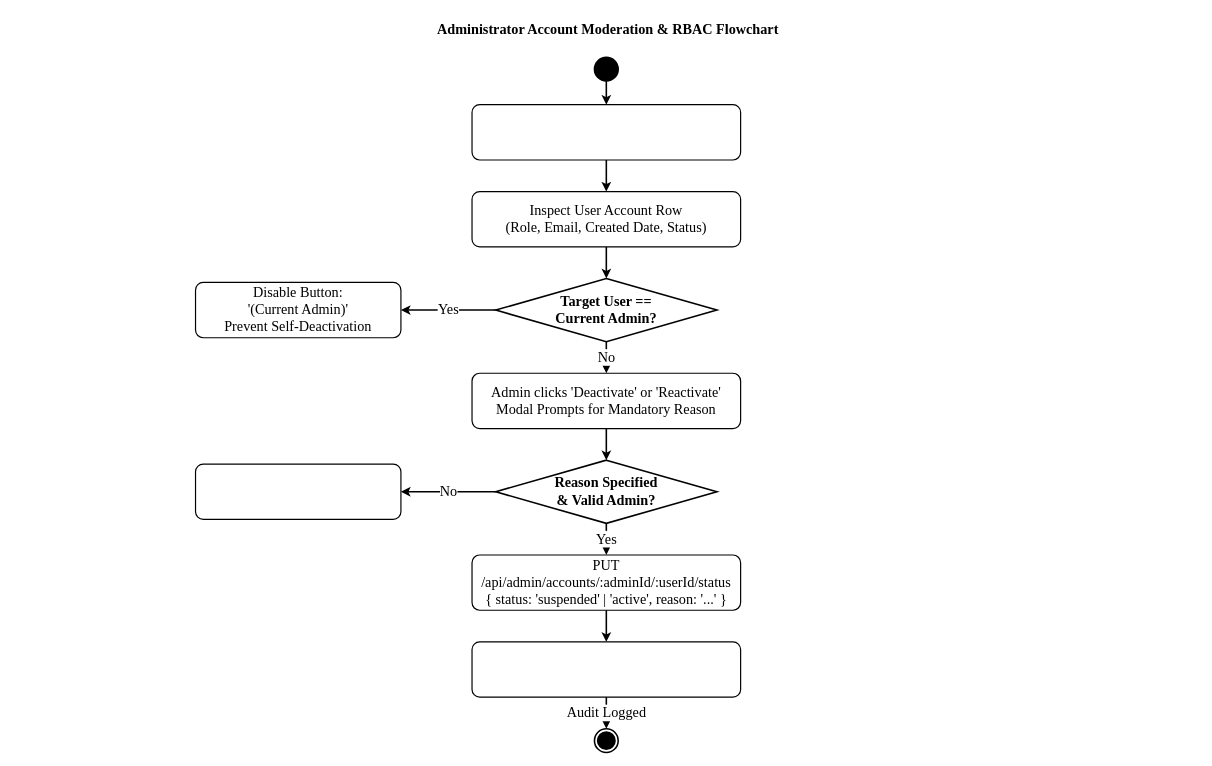
The diagram is 1212 pixels wide and 766 high, and some of its shapes have lost their labels. Each missing label, with the centre of its shape:
Administrator opens Accounts Tab in admin.html GET /api/admin/accounts/:adminId: (x=606, y=132)
Backend Updates users.isActive state & Appends Event to security_logs Collection: (x=606, y=669)
Show Validation Error: 'Reason is required': (x=298, y=491)
